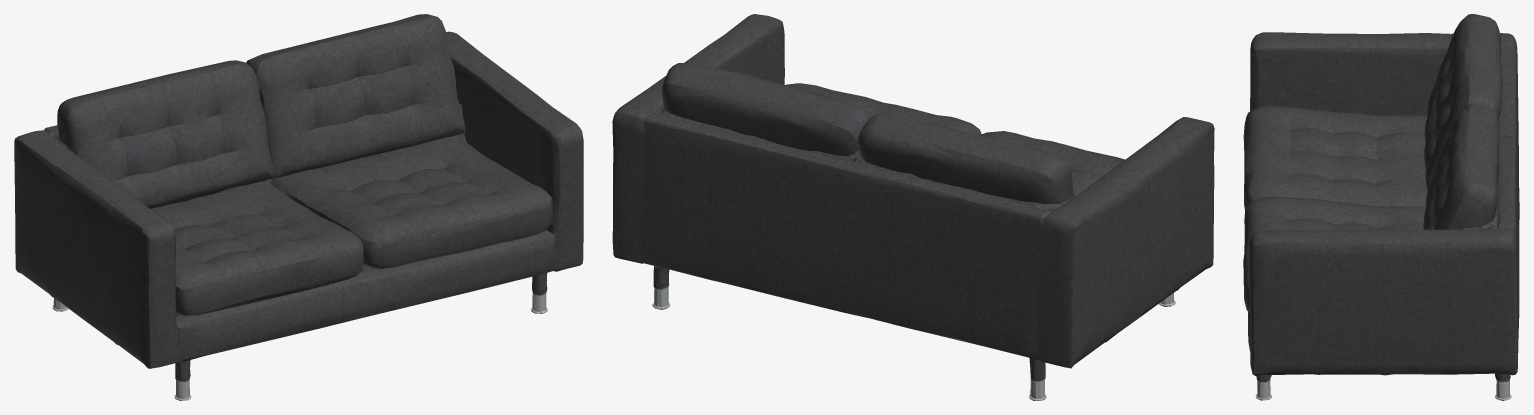
File: 06 - LANDSKRONA - 雙人座沙發，Gunnared 深灰色金屬 IKEA 線上購物.glb
The picture shows the model from 3 angles, left to right: view 1: azimuth 30°, elevation 25°; view 2: azimuth 150°, elevation 25°; view 3: azimuth 270°, elevation 25°; orthographic projection. The views are drawn at different scales.
Parts seen in each view (by area): view 1: ProcessedMeshNode; view 2: ProcessedMeshNode; view 3: ProcessedMeshNode.
Part boxes in pixels (bbox=[...]): ProcessedMeshNode: bbox=[14, 14, 583, 400]; ProcessedMeshNode: bbox=[612, 14, 1214, 400]; ProcessedMeshNode: bbox=[1243, 14, 1519, 400].
Bounding box in the file's own units: 1.65 × 0.7833 × 0.9087.
1 material, 1 textured.
